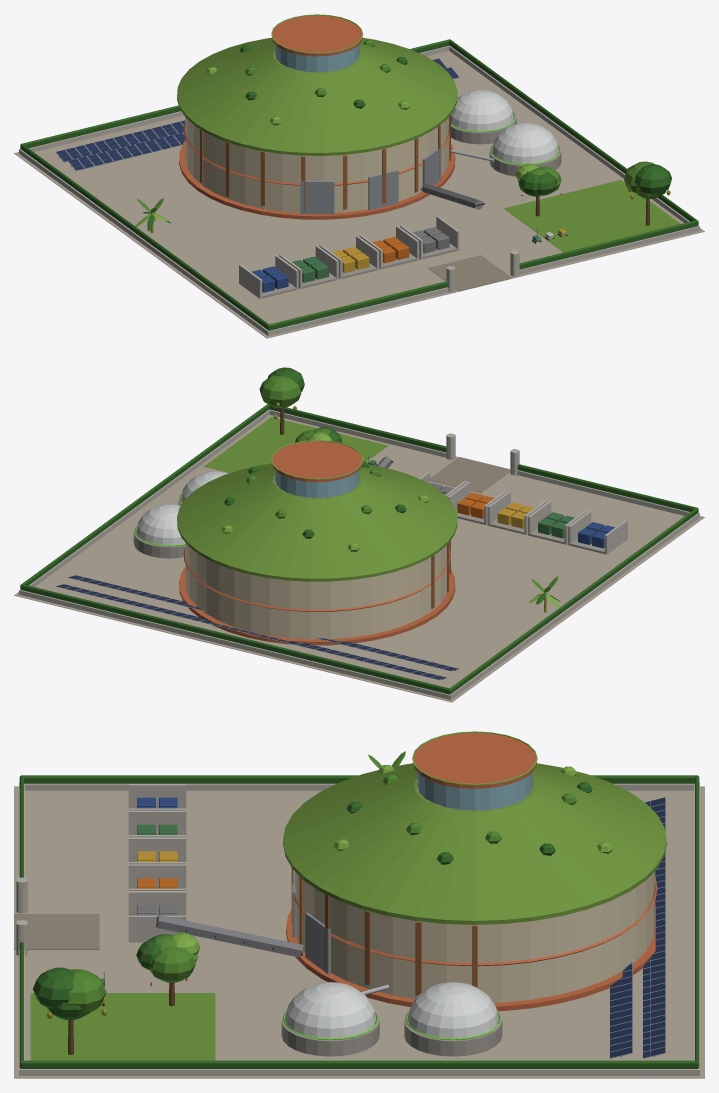
File: waste.glb
3 views of the same model, one above another, from view 1: azimuth 30°, elevation 25°; view 2: azimuth 150°, elevation 25°; view 3: azimuth 270°, elevation 25° (orthographic). The views are drawn at different scales.
Visible parts, largest first — view 1: body, windows; view 2: body; view 3: body, windows.
Part boxes in pixels (box(x1,y1,x2,y2)): body: box(14, 15, 704, 338); windows: box(271, 14, 566, 274); body: box(14, 367, 704, 702); body: box(14, 732, 704, 1078); windows: box(15, 731, 537, 1039).
Bounding box in the file's own units: 47.9 × 13.4 × 47.9.
